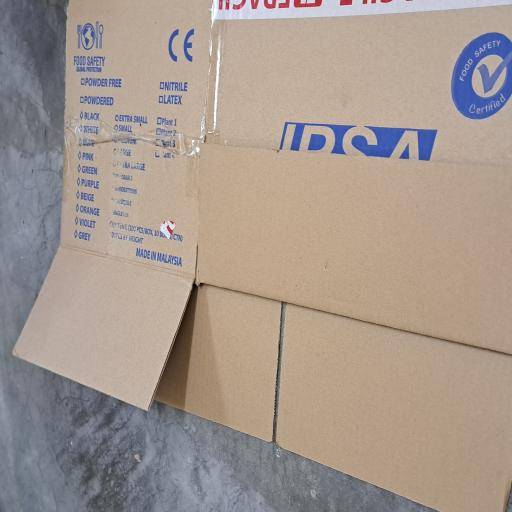cardboard: (0, 15, 384, 512)
